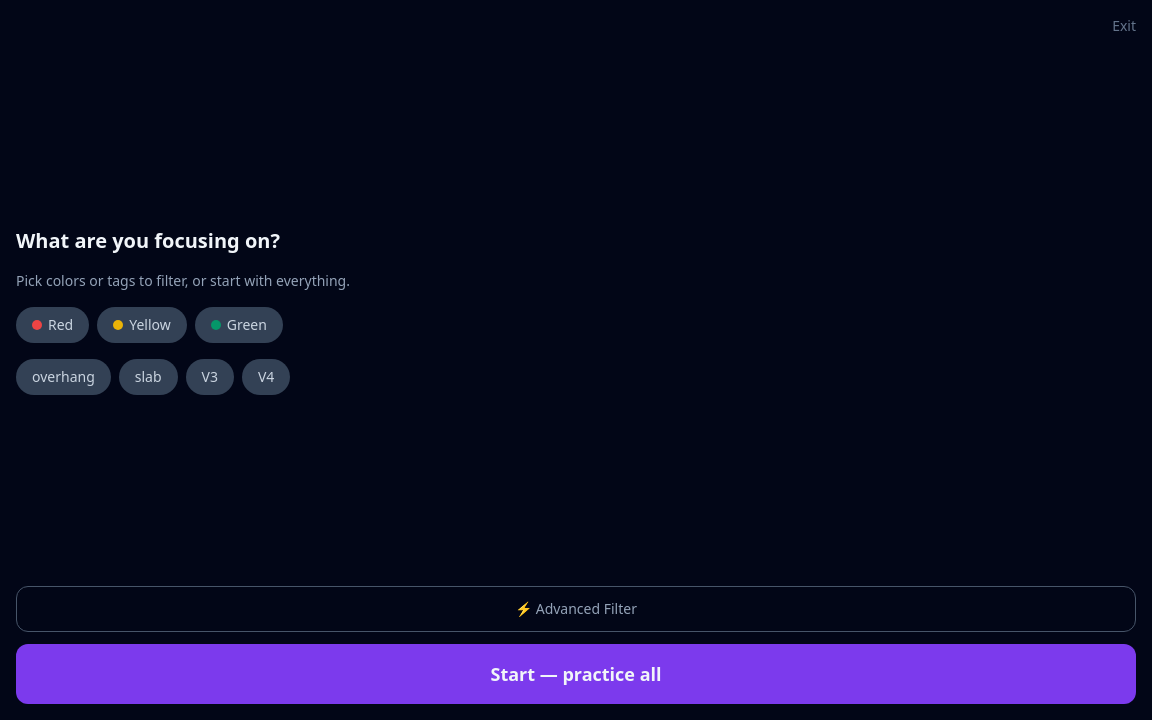
Test case: item screen › "Change" on the item screen opens the filter step and redraws with the new filter
Click the button "V3" at (210, 377), box 186,359 -> 234,395
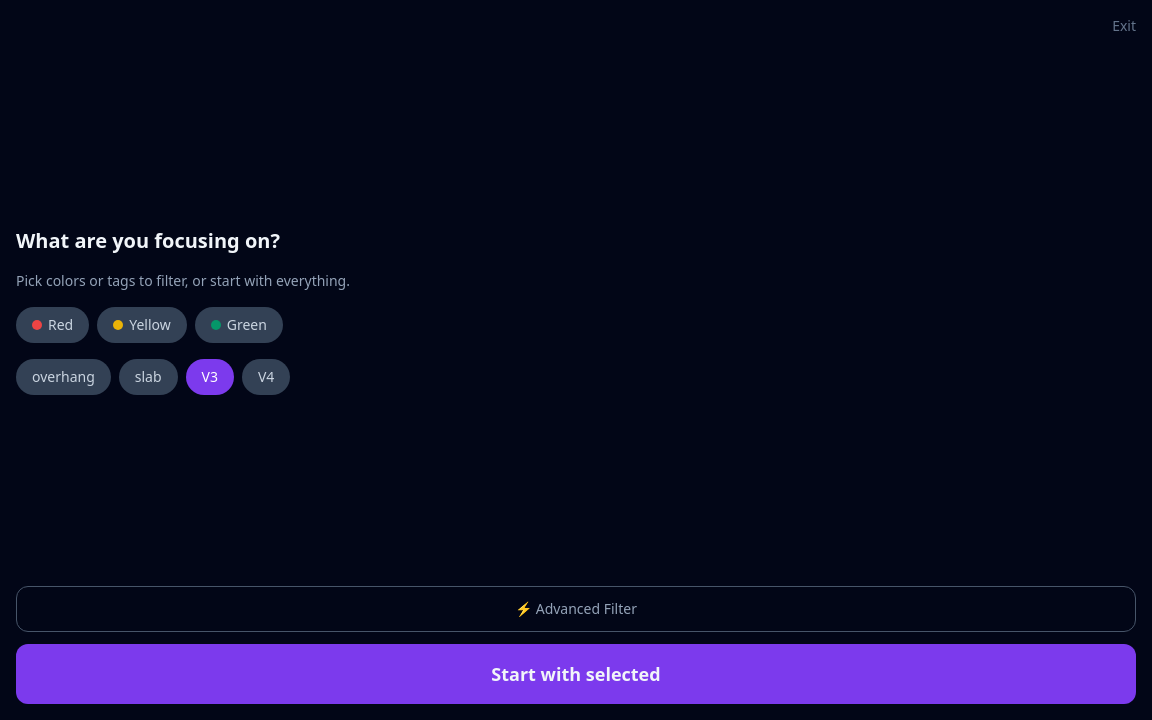
Click the button "Start with selected" at (576, 674), box 16,644 -> 1136,704
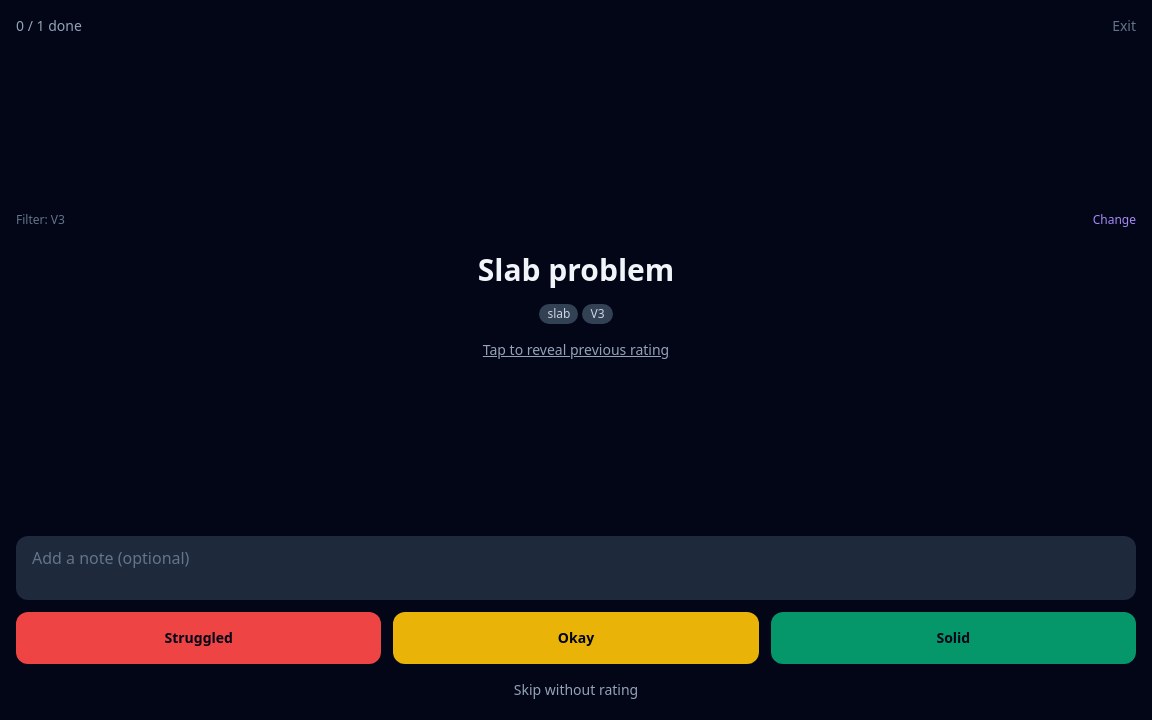
Click the button "Change" at (1114, 220), box 1093,212 -> 1136,228
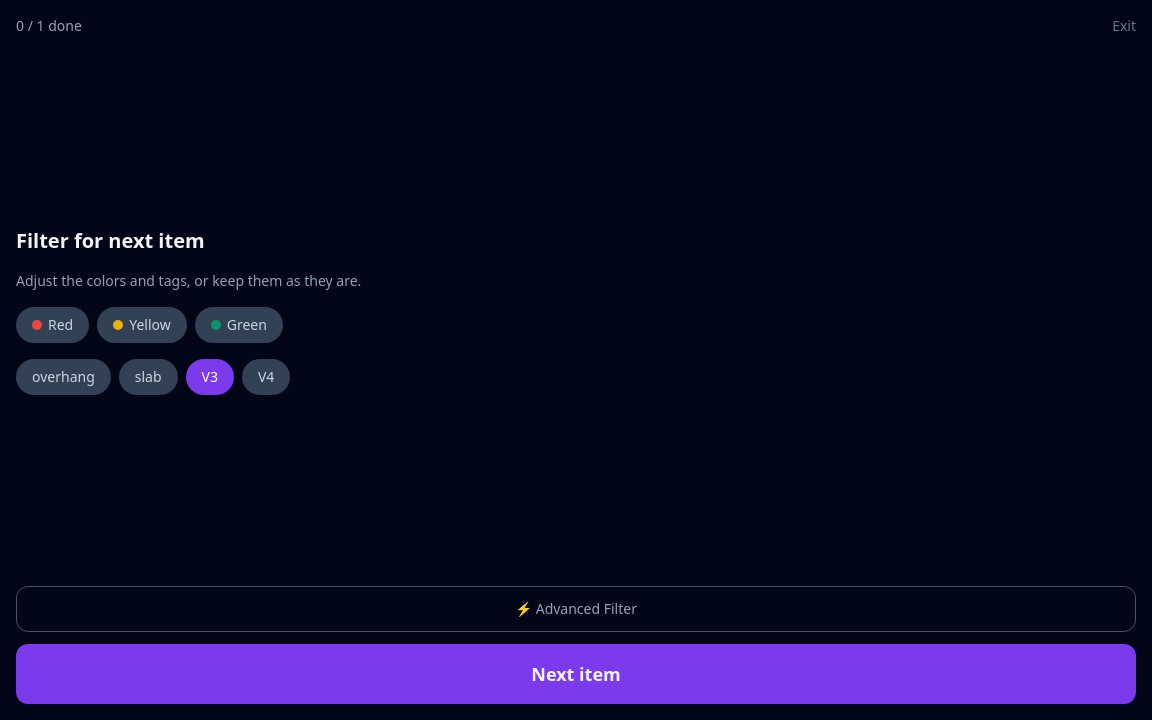
Expected: the heading "Filter for next item" is shown, 16,227 -> 205,254
Click the button "V3" at (210, 377), box 186,359 -> 234,395
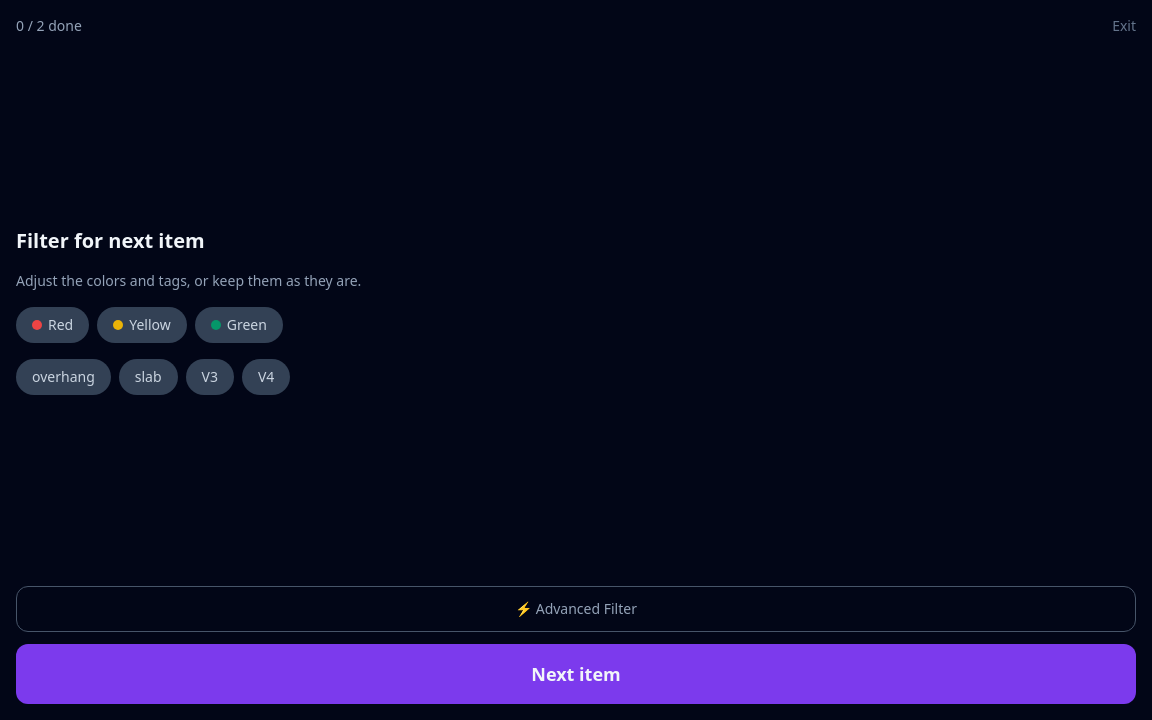
Click the button "V4" at (266, 377), box 242,359 -> 290,395
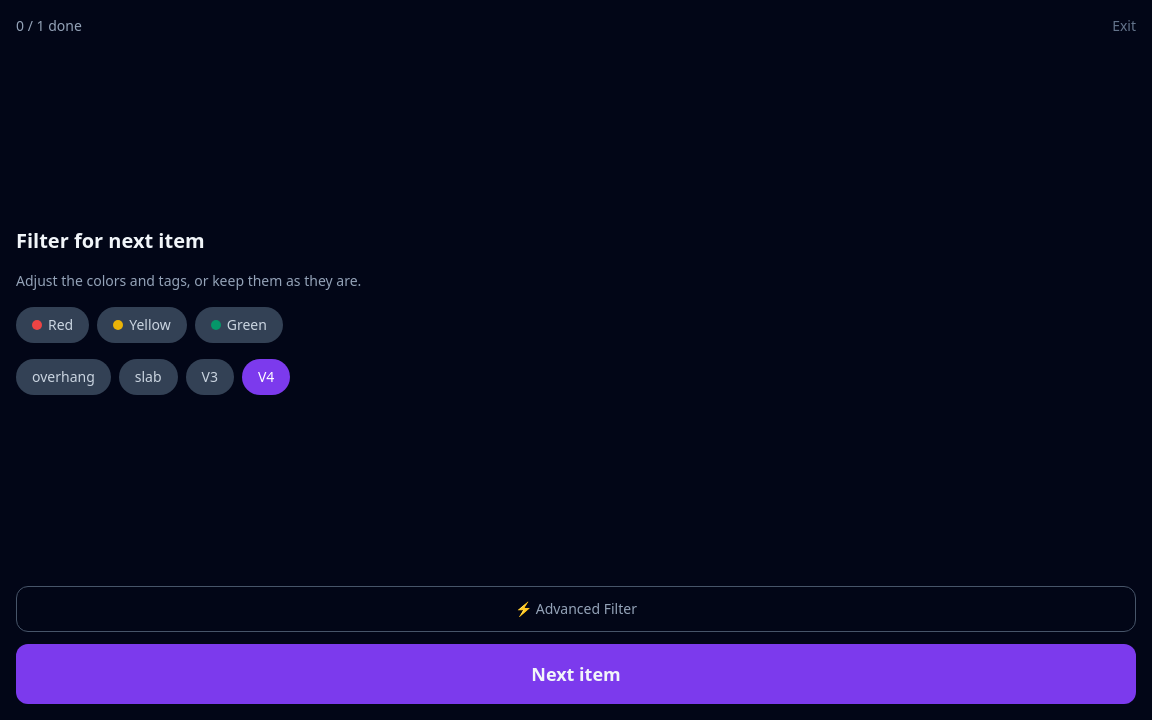
Click the button "Next item" at (576, 674), box 16,644 -> 1136,704
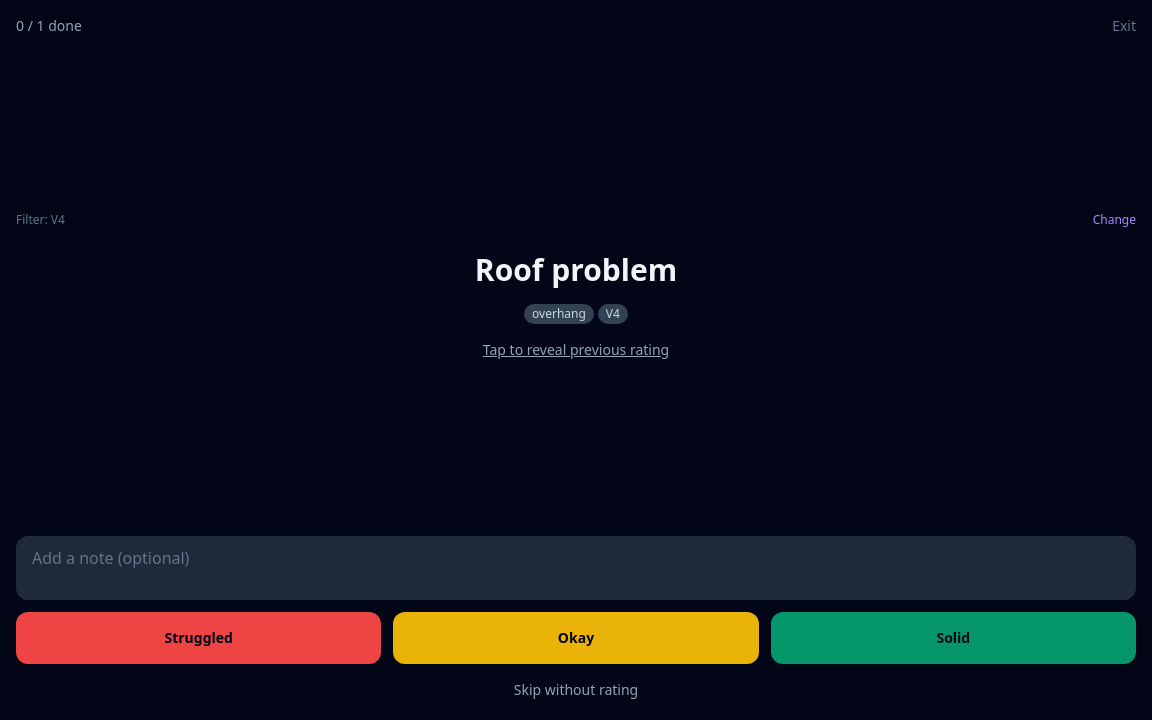
Expected: the text "Roof problem" is shown, 475,252 -> 677,288
